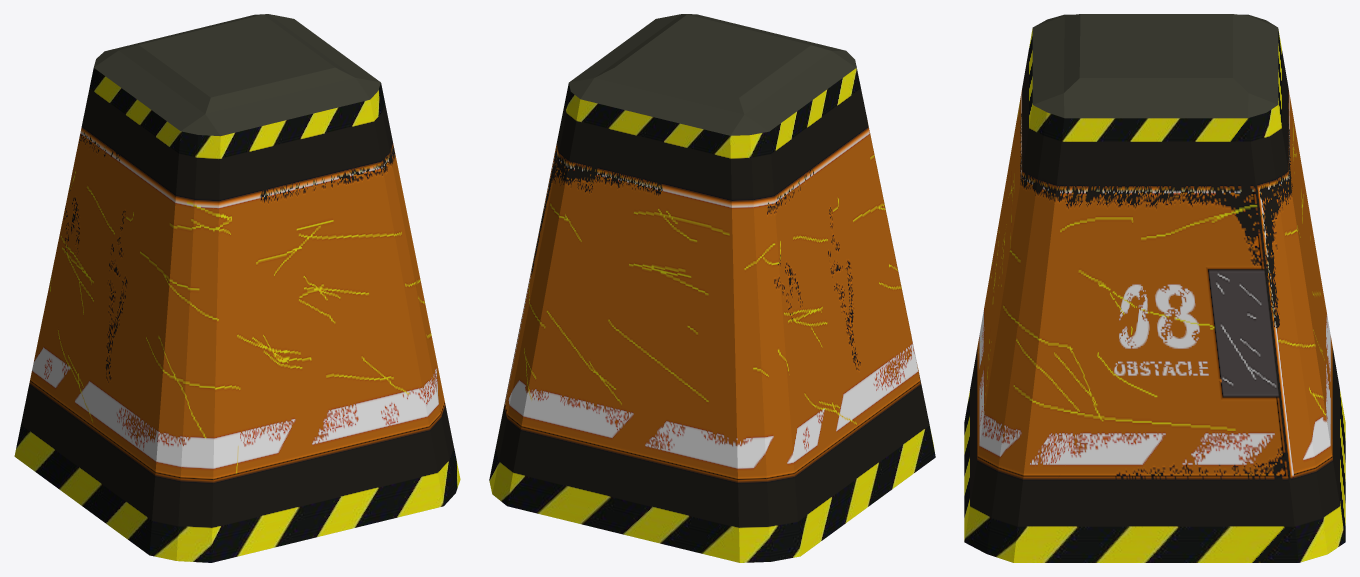
Rendered from trapecio_alto.fbx.
The picture shows the model from 3 angles, left to right: view 1: azimuth 30°, elevation 25°; view 2: azimuth 150°, elevation 25°; view 3: azimuth 270°, elevation 25°; orthographic projection. The views are drawn at different scales.
Visible parts, largest first — view 1: Cube; view 2: Cube; view 3: Cube.
Part boxes in pixels (box(x1,y1,x2,y2)): Cube: box(14, 14, 460, 562); Cube: box(489, 14, 935, 562); Cube: box(964, 14, 1345, 562).
Size of the model in its own units: 2.78 by 3.62 by 2.79.
1 material, 1 textured.
